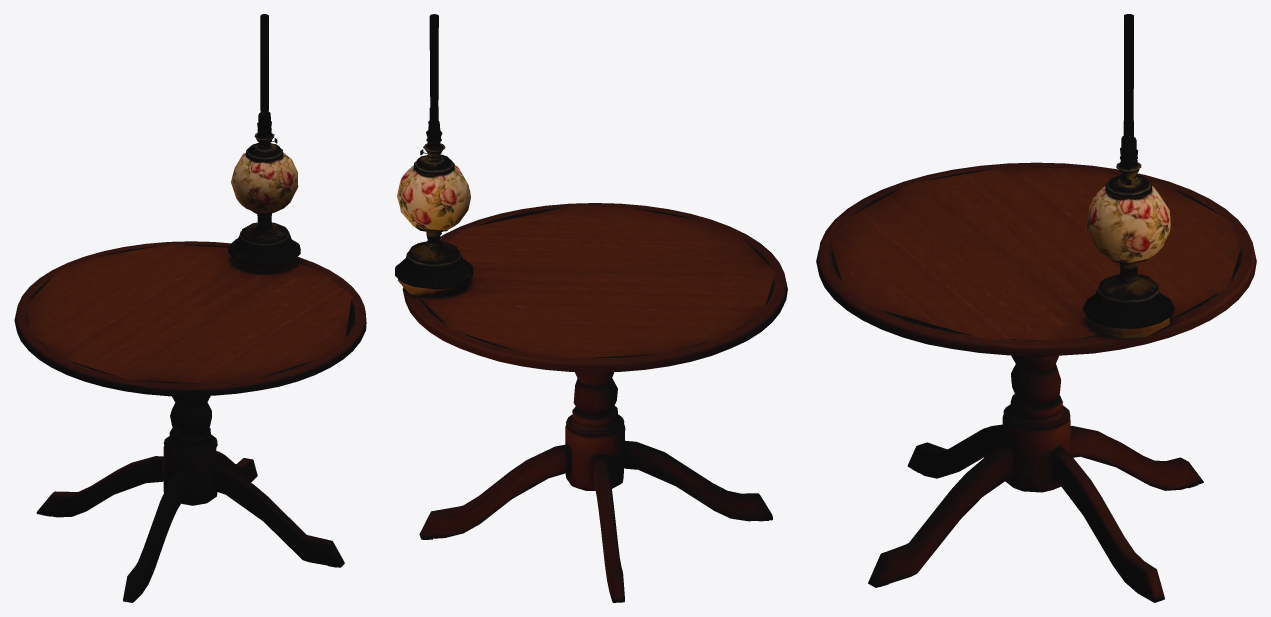
The model's file is table-1k.glb.
3 views of the same model, side by side, from view 1: azimuth 30°, elevation 25°; view 2: azimuth 150°, elevation 25°; view 3: azimuth 270°, elevation 25° (orthographic). The views are drawn at different scales.
Bounding box in the file's own units: 18.32 × 26.98 × 18.37.
Materials: 1 (1 with a texture image).
